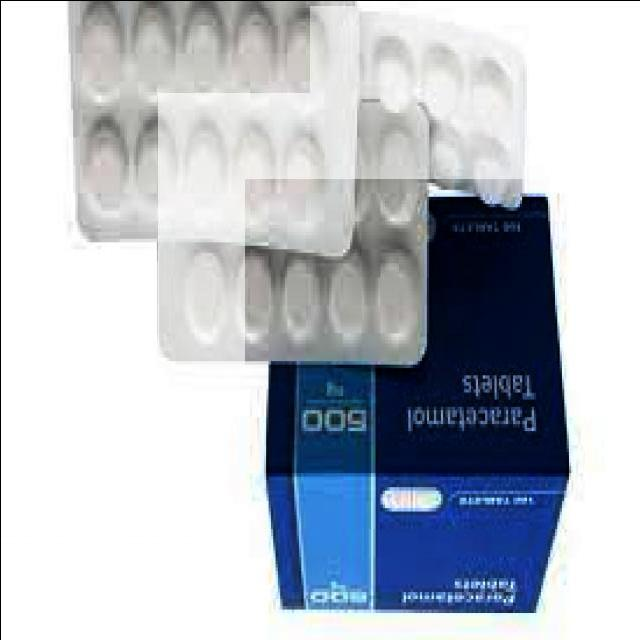authentic: (244, 178, 574, 478), (249, 360, 577, 631), (66, 0, 354, 261), (157, 92, 425, 368), (309, 5, 522, 213)
